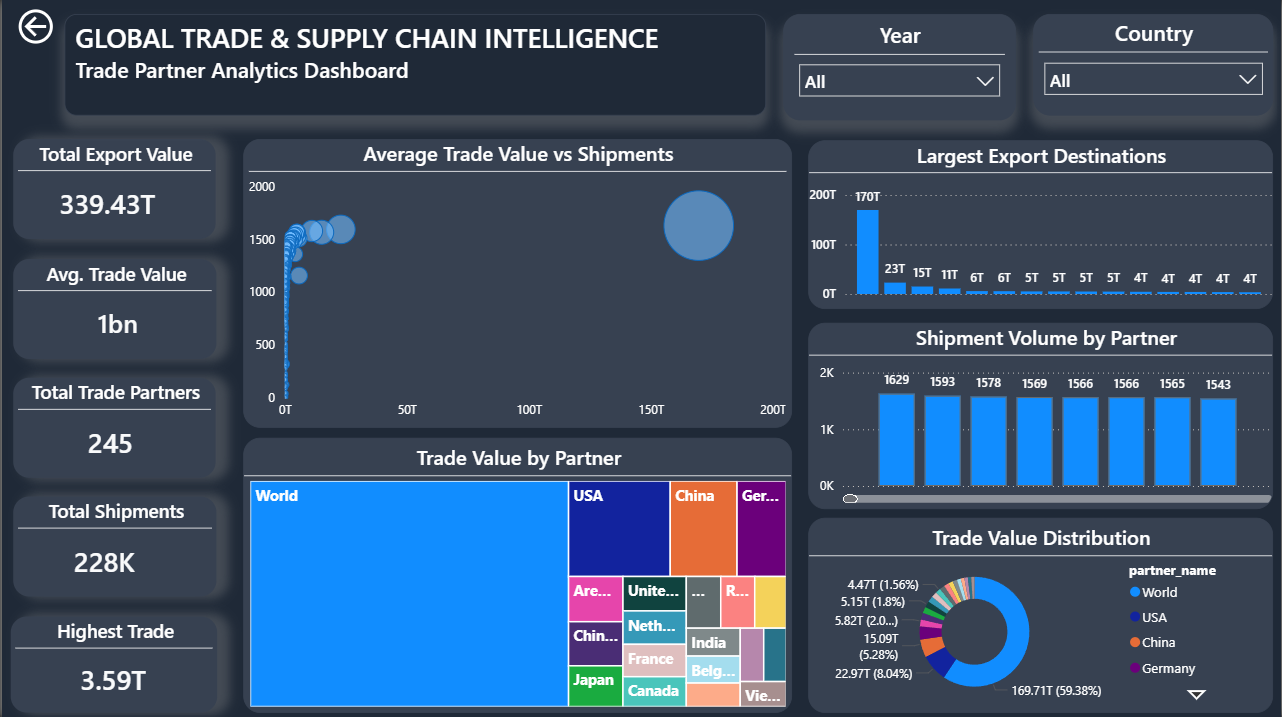

The dashboard page shown, as its layout file describes it:
{"tool":"powerbi","page":{"name":"Trade Partner Analytics Dashboard","canvas":[1280,720],"ordinal":4},"visuals":[{"type":"group","id":"g1","title":"Group 3","box":[8.2,6.6,1262.5,709.1],"z":0,"group":"g5"},{"type":"textbox","box":[61.9,16.6,701.2,101.2],"z":0,"group":"g3"},{"type":"clusteredColumnChart","title":"Shipment Volume by Partner","fields":{"Category":["Partner_Trade_Data.partner_name"],"Y":["Sum(Partner_Trade_Data.total_shipments)"]},"box":[805.7,325.2,465,186.2],"z":0,"group":"g4"},{"type":"scatterChart","title":"Average Trade Value vs Shipments","fields":{"Y":["Sum(Partner_Trade_Data.total_shipments)"],"X":["Sum(Partner_Trade_Data.total_trade_value)"],"Category":["Partner_Trade_Data.partner_name"],"Size":["Sum(Partner_Trade_Data.largest_trade_transaction)"]},"box":[240.7,141.4,548.8,288.8],"z":1000,"group":"g4"},{"type":"cardVisual","title":"Total Export Value","fields":{"Data":["DAX_Measures.CA_Total_Exports"]},"box":[10.8,142,202,100],"z":1000,"group":"g2"},{"type":"treemap","title":"Trade Value by Partner","fields":{"Values":["Sum(Partner_Trade_Data.total_trade_value)"],"Group":["Partner_Trade_Data.partner_name"]},"box":[240.7,440.2,548.8,275],"z":2000,"group":"g4"},{"type":"cardVisual","title":"Total Shipments","fields":{"Data":["DAX_Measures.CA_Total_Shipments"]},"box":[10.8,499.5,203.2,100],"z":2000,"group":"g2"},{"type":"columnChart","title":"Largest Export Destinations","fields":{"Category":["Partner_Trade_Data.partner_name"],"Y":["Sum(Partner_Trade_Data.total_trade_value)"]},"box":[805.7,142.6,465,168.8],"z":3000,"group":"g4"},{"type":"cardVisual","title":"Total Trade Partners","fields":{"Data":["DAX_Measures.CA_Trade_Partners"]},"box":[10.8,380.3,202,100],"z":3000,"group":"g2"},{"type":"donutChart","title":"Trade Value Distribution","fields":{"Category":["Partner_Trade_Data.partner_name"],"Y":["Sum(Partner_Trade_Data.total_trade_value)"]},"box":[805.7,520.2,465,195],"z":4000,"group":"g4"},{"type":"cardVisual","title":"Highest Trade","fields":{"Data":["DAX_Measures.CA_Largest_Trade"]},"box":[8.2,619.4,206.2,96.2],"z":4000,"group":"g2"},{"type":"cardVisual","title":"Avg. Trade Value","fields":{"Data":["DAX_Measures.CA_Avg_Trade_Value"]},"box":[10.8,261.2,203.2,100],"z":5000,"group":"g2"},{"type":"actionButton","title":"Back","box":[10.7,6.6,51.2,45],"z":7000,"group":"g3"},{"type":"slicer","title":"Country","fields":{"Values":["DimCountry.reporter_name"]},"box":[1030.7,16.6,240,101.2],"z":9000,"group":"g3"},{"type":"slicer","title":"Year","fields":{"Values":["DimYear.reference_year"]},"box":[780.7,16.6,232.5,106.2],"z":10000,"group":"g3"},{"type":"group","id":"g2","title":"Group 2","box":[8.2,6.6,1262.5,709.1],"z":12002,"group":"g1"},{"type":"group","id":"g3","title":"Group 1","box":[10.7,6.6,1260,116.2],"z":12002,"group":"g2"},{"type":"group","id":"g4","title":"Group 4","box":[240.7,141.4,1030,573.8],"z":12002,"group":"g5"},{"type":"group","id":"g5","title":"Group 5","box":[8.2,6.6,1262.5,708.8],"z":12003}]}

Visuals, with their boxes in screenshot pixels (x1, y1, x2, y2), scaled from the page's 1280x720 canvas onto the 1282x717 screenshot:
"Group 3" group: detection(8, 7, 1273, 713)
textbox: detection(62, 17, 764, 117)
"Shipment Volume by Partner" clusteredColumnChart: detection(807, 324, 1273, 509)
"Average Trade Value vs Shipments" scatterChart: detection(241, 141, 791, 428)
"Total Export Value" cardVisual: detection(11, 141, 213, 241)
"Trade Value by Partner" treemap: detection(241, 438, 791, 712)
"Total Shipments" cardVisual: detection(11, 497, 214, 597)
"Largest Export Destinations" columnChart: detection(807, 142, 1273, 310)
"Total Trade Partners" cardVisual: detection(11, 379, 213, 478)
"Trade Value Distribution" donutChart: detection(807, 518, 1273, 712)
"Highest Trade" cardVisual: detection(8, 617, 215, 713)
"Avg. Trade Value" cardVisual: detection(11, 260, 214, 360)
"Back" actionButton: detection(11, 7, 62, 51)
"Country" slicer: detection(1032, 17, 1273, 117)
"Year" slicer: detection(782, 17, 1015, 122)
"Group 2" group: detection(8, 7, 1273, 713)
"Group 1" group: detection(11, 7, 1273, 122)
"Group 4" group: detection(241, 141, 1273, 712)
"Group 5" group: detection(8, 7, 1273, 712)
